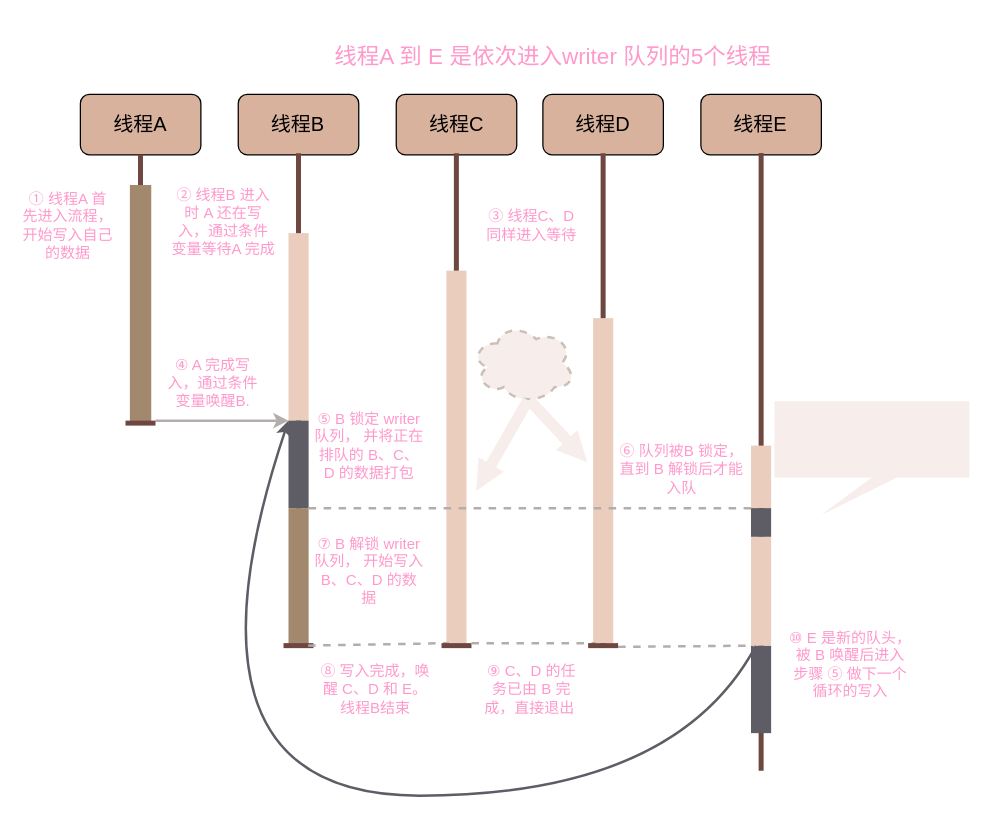
This 990x818 diagram has some shape labels left out. Here are the shapes that lost their labels. From the top down, the centre of each, then its label:
the point at 523,362: 全程睡眠
the point at 871,457: B 释放锁之后，E 将自己加入队列，随后通过环境变量等待 B 完成写入
